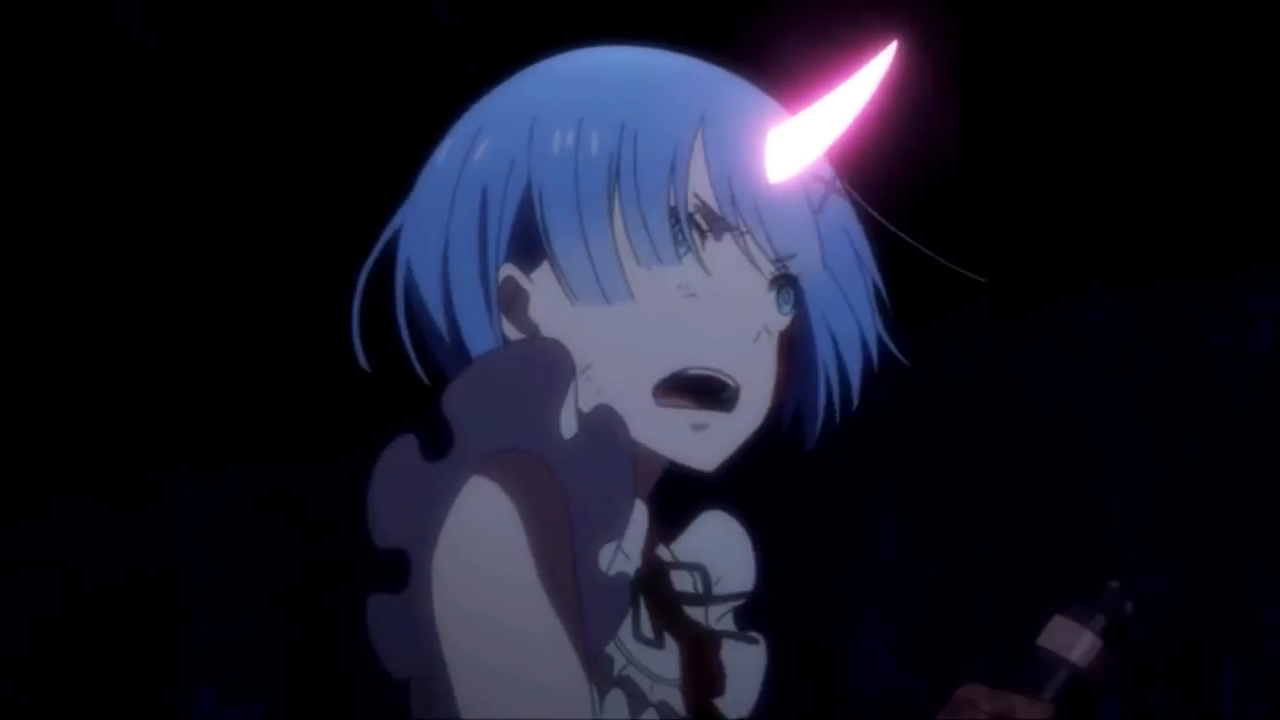REM: (383, 38, 907, 481)
